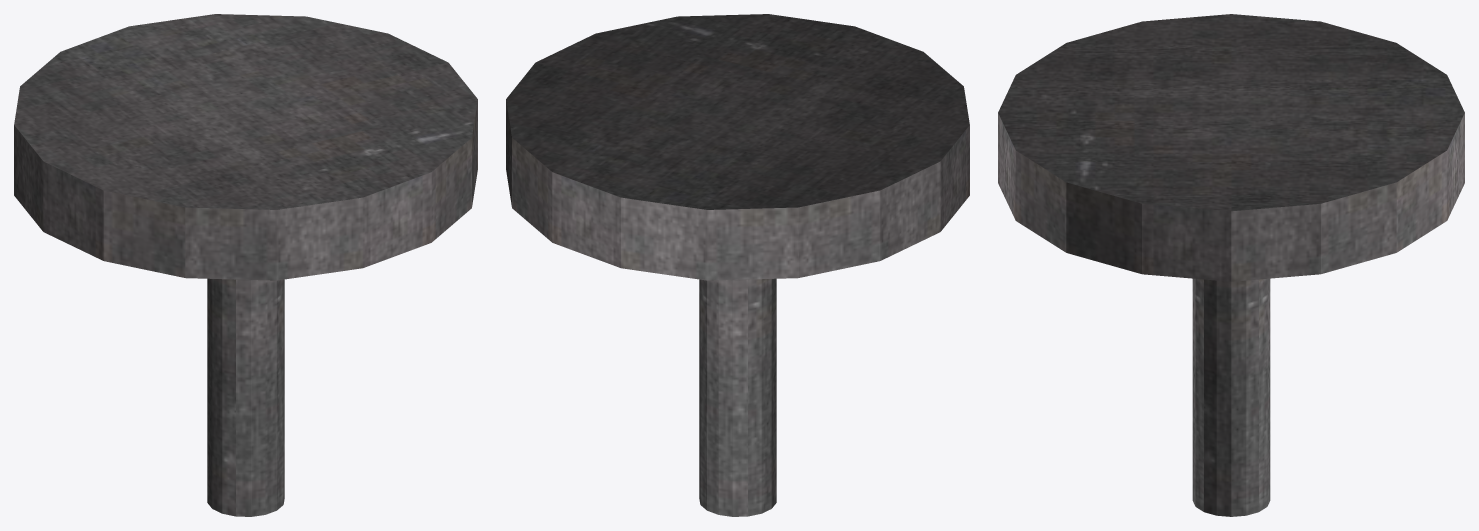
Rendered from cambase.fbx.
The picture shows the model from 3 angles, left to right: view 1: azimuth 30°, elevation 25°; view 2: azimuth 150°, elevation 25°; view 3: azimuth 270°, elevation 25°; orthographic projection.
Visible parts, largest first — view 1: Scene_Root; view 2: Scene_Root; view 3: Scene_Root.
Part boxes in pixels (box(x1,y1,x2,y2)): Scene_Root: box(14, 14, 477, 516); Scene_Root: box(506, 14, 969, 516); Scene_Root: box(998, 14, 1464, 516).
Size of the model in its own units: 96 by 88 by 96.
